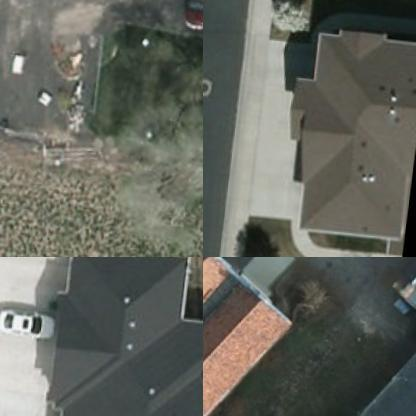car: (0, 302, 60, 337), (178, 0, 202, 28)
